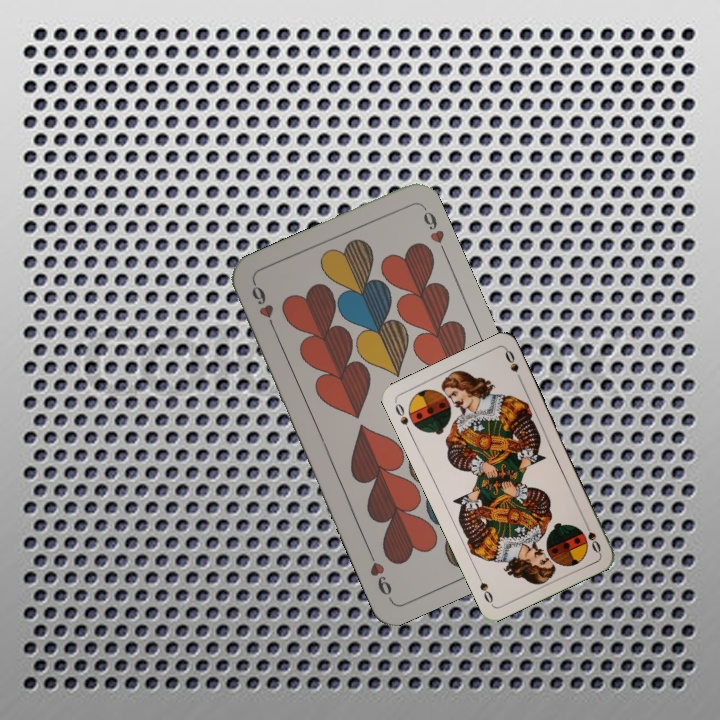H9: (247, 278, 279, 335)
SO: (580, 517, 604, 556), (391, 398, 414, 436)
